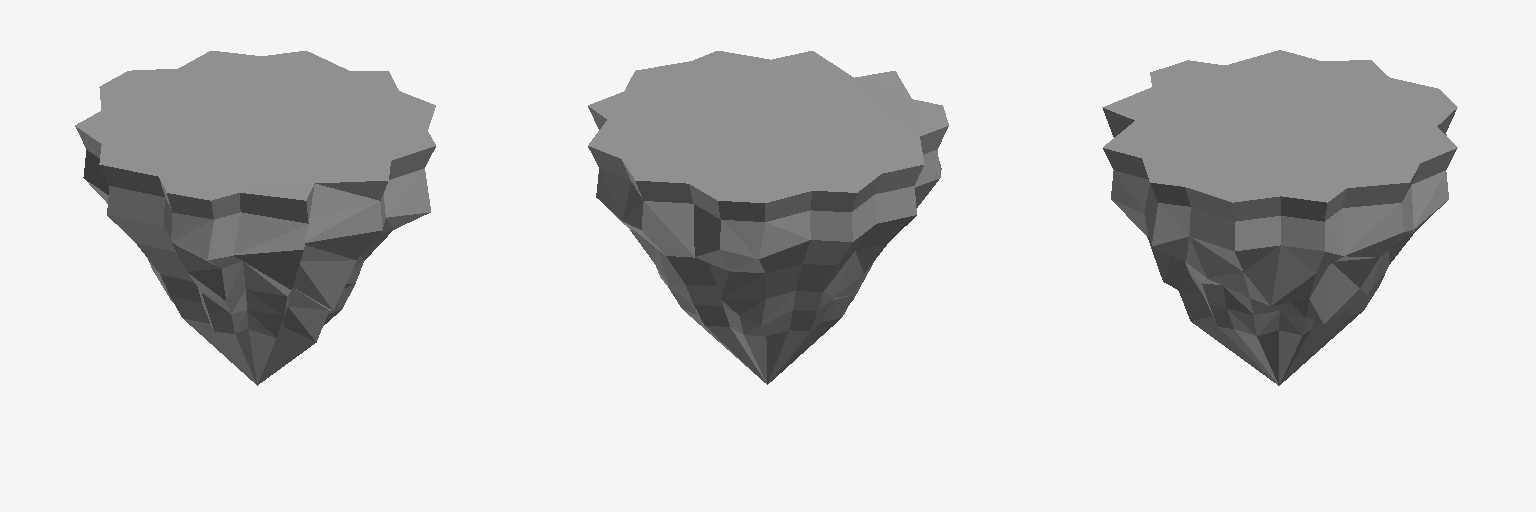
File: ground.obj
3 views of the same model, side by side, from view 1: azimuth 30°, elevation 25°; view 2: azimuth 150°, elevation 25°; view 3: azimuth 270°, elevation 25° (orthographic).
Visible parts, largest first — view 1: Rock_Circle.003; view 2: Rock_Circle.003; view 3: Rock_Circle.003.
Part boxes in pixels (bbox=[...]): Rock_Circle.003: bbox=[75, 51, 435, 385]; Rock_Circle.003: bbox=[588, 51, 948, 384]; Rock_Circle.003: bbox=[1102, 50, 1457, 385].
Bounding box in the file's own units: 1.97 × 1.56 × 1.93.